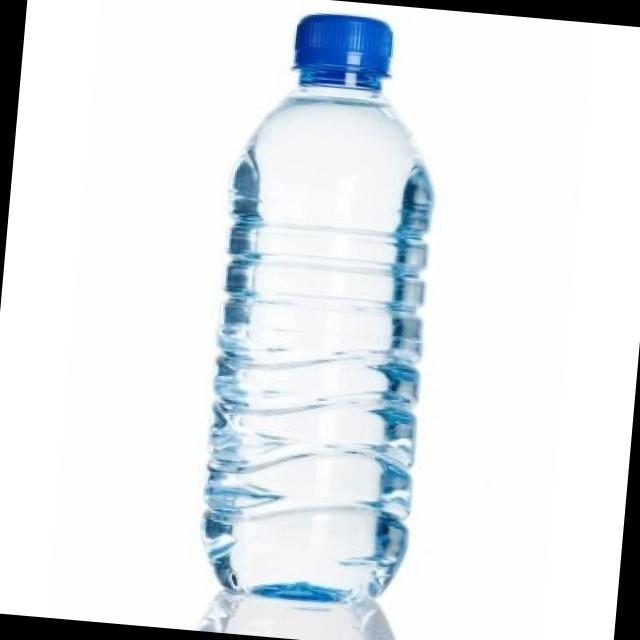plastic_bottle: (192, 5, 450, 615)
